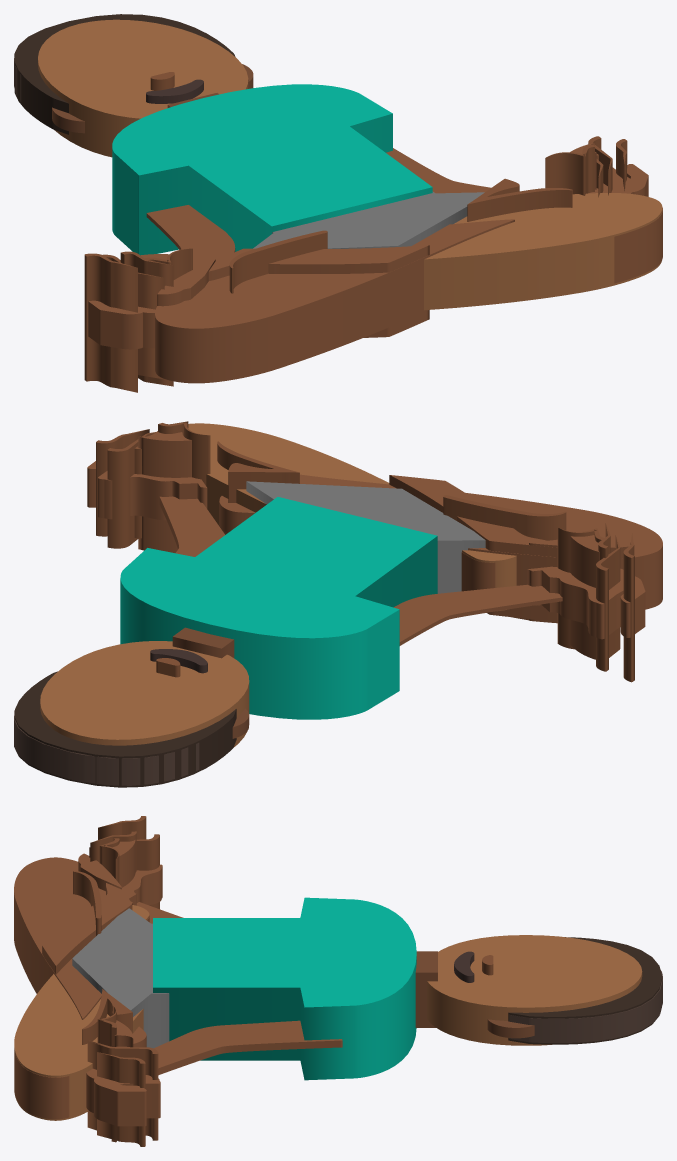
Rendered from emoji_u1f9d8_1f3fe_200d_2642.glb.
The picture shows the model from 3 angles, top to bottom: view 1: azimuth 30°, elevation 25°; view 2: azimuth 150°, elevation 25°; view 3: azimuth 270°, elevation 25°; orthographic projection. The views are drawn at different scales.
Parts seen in each view (by area): view 1: emoji_u1f9d8_1f3fe_200d_2642; view 2: emoji_u1f9d8_1f3fe_200d_2642; view 3: emoji_u1f9d8_1f3fe_200d_2642.
Boxes of the visible parts, <box> form: emoji_u1f9d8_1f3fe_200d_2642: <box>14,14,662,392</box>; emoji_u1f9d8_1f3fe_200d_2642: <box>14,421,662,787</box>; emoji_u1f9d8_1f3fe_200d_2642: <box>14,816,662,1146</box>.
Size of the model in its own units: 0.0294 by 0.0066 by 0.0339.
